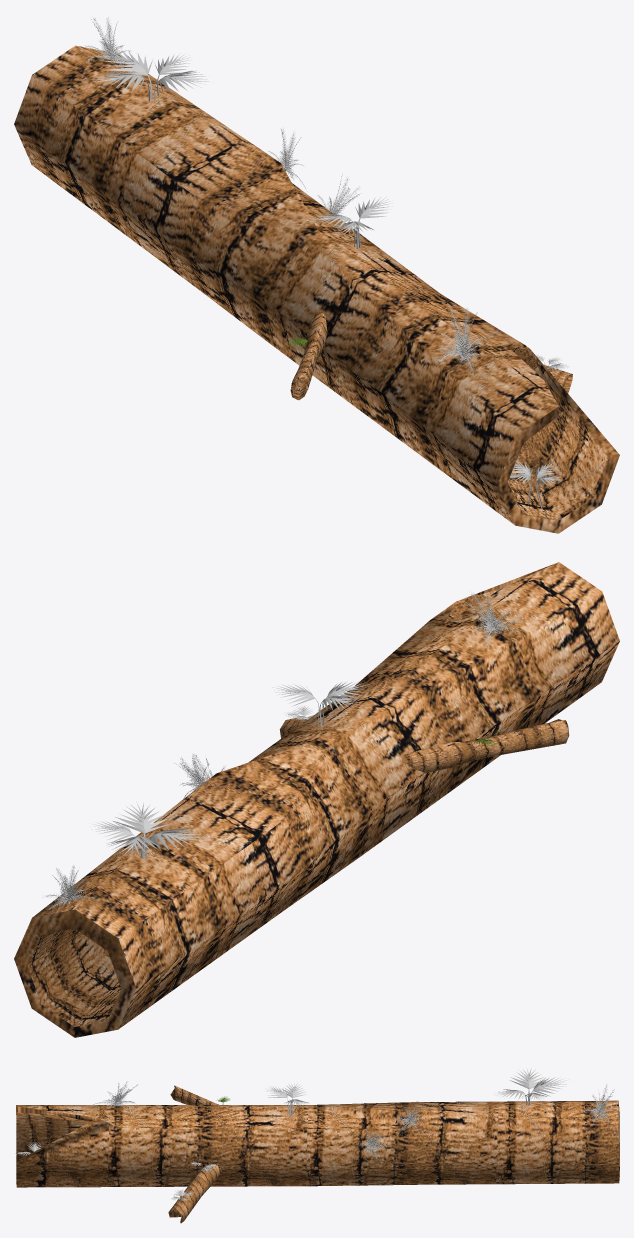
The model's file is ThicketBase.fbx.
3 renders of one model, top to bottom at view 1: azimuth 30°, elevation 25°; view 2: azimuth 150°, elevation 25°; view 3: azimuth 270°, elevation 25°, orthographic. The views are drawn at different scales.
Parts seen in each view (by area): view 1: MainBranch001, PalmLeaf001, Palm005, PalmLeaf002; view 2: MainBranch001, PalmLeaf001, PalmLeaf002, Palm003; view 3: MainBranch001, PalmLeaf002, PalmLeaf003, PalmLeaf001, Palm005, Palm006, PalmLeaf004.
Boxes of the visible parts, x1,y1,x2,y2 form: MainBranch001: (14, 45, 619, 533); PalmLeaf001: (436, 306, 488, 377); Palm005: (98, 48, 152, 99); PalmLeaf002: (85, 17, 131, 67); MainBranch001: (14, 562, 619, 1037); PalmLeaf001: (463, 592, 522, 647); PalmLeaf002: (44, 865, 98, 909); Palm003: (113, 801, 169, 855); MainBranch001: (16, 1085, 619, 1223); PalmLeaf002: (584, 1084, 614, 1131); PalmLeaf003: (357, 1127, 387, 1161); PalmLeaf001: (91, 1081, 137, 1106); Palm005: (529, 1077, 568, 1104); Palm006: (510, 1068, 544, 1104); PalmLeaf004: (394, 1101, 423, 1135).
Bounding box in the file's own units: 9.78 × 5.55 × 28.93.
